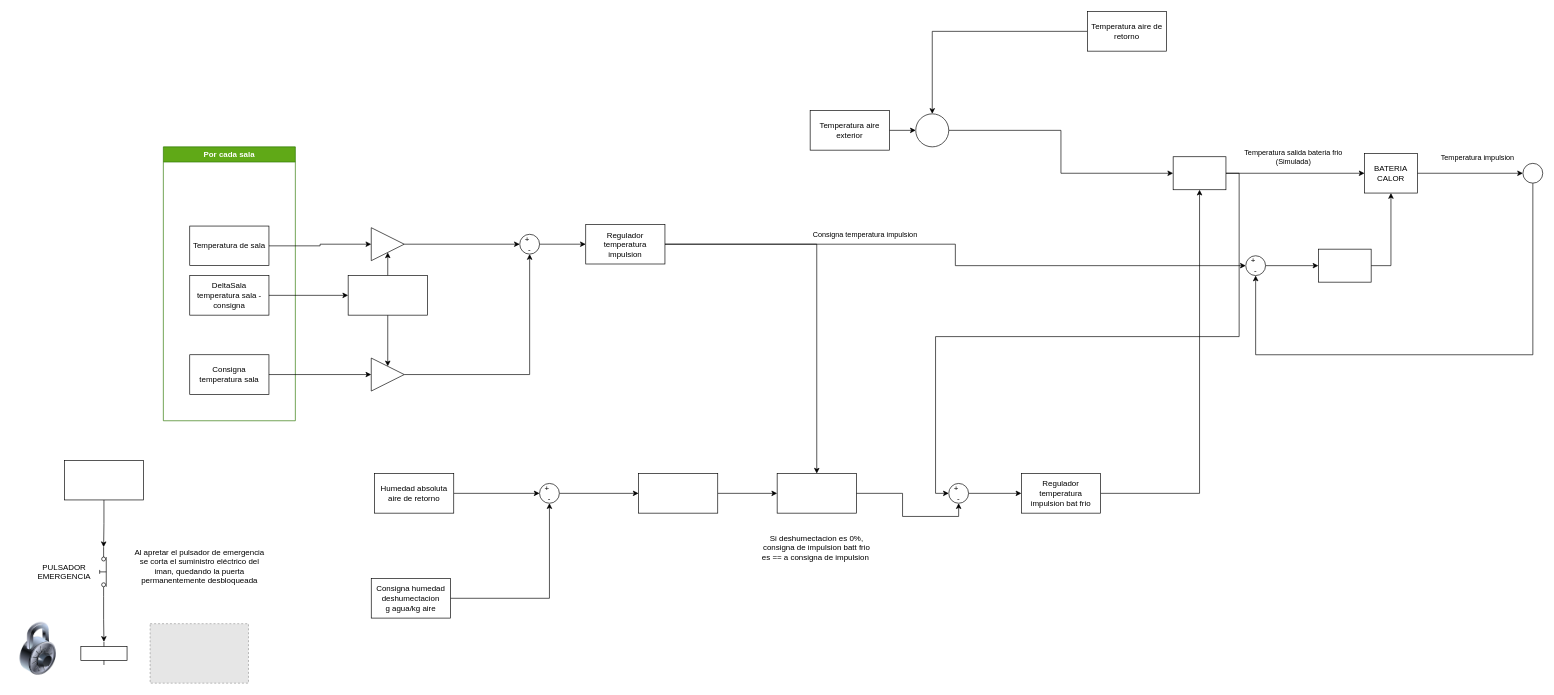
Image size: 1554x695. Some labels were removed from this diagram. Grey dashed boxes stand in for pictures. Each missing label, with the centre of its shape:
"BATERIA FRIO" goes at (1199,173).
"Busca sala con Delta mayor" goes at (387,295).
"Escalado 0-100% 0 a temp consigna - temp minima aire" goes at (816,493).
"mezcla" goes at (932,130).
"Regulador de humedad" goes at (678,493).
"Regulador Valvula Calor" goes at (1344,265).
"SUMINISTRO ELECTRICO" goes at (104,480).
